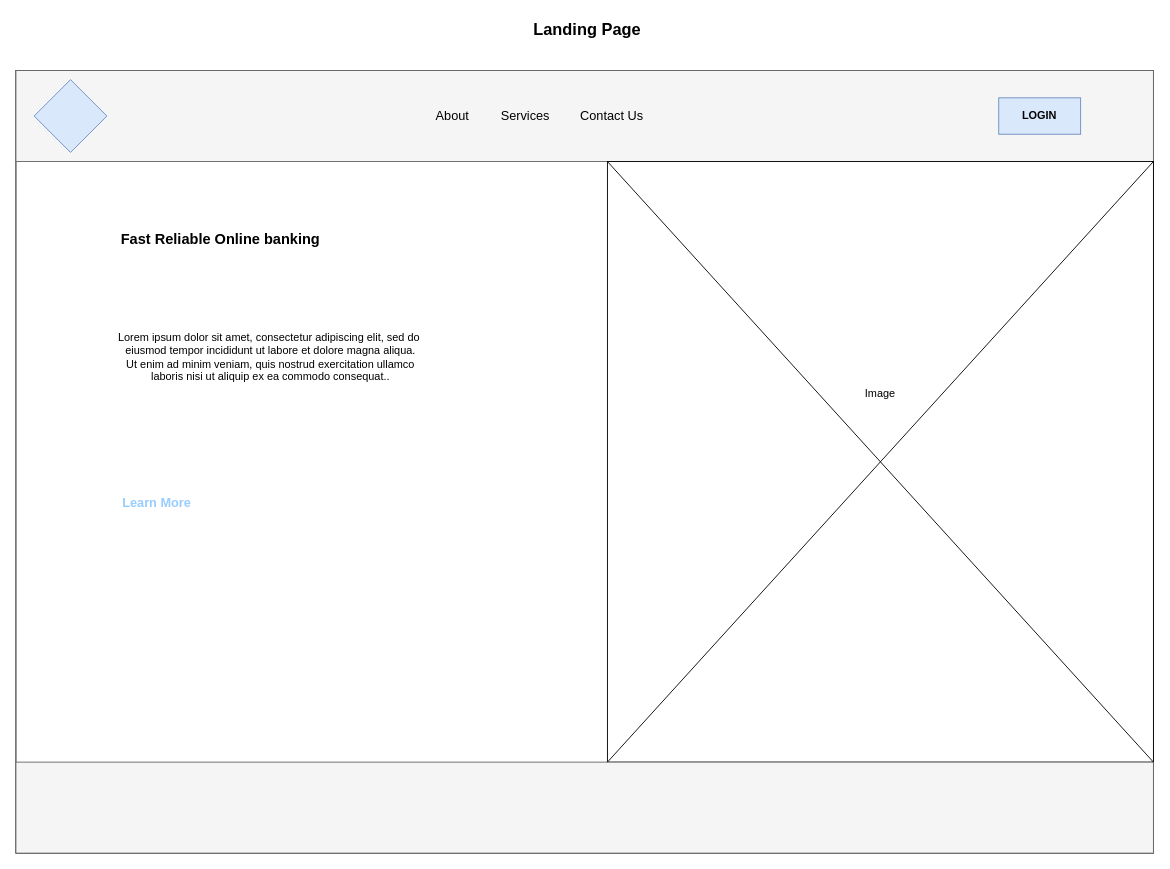
Image size: 1170x869. Some labels were removed from this diagram. The centre of each missing label's shape, as x and y in pixels:
"Footer Information" goes at (584,807).
"LOGO" goes at (70,115).
